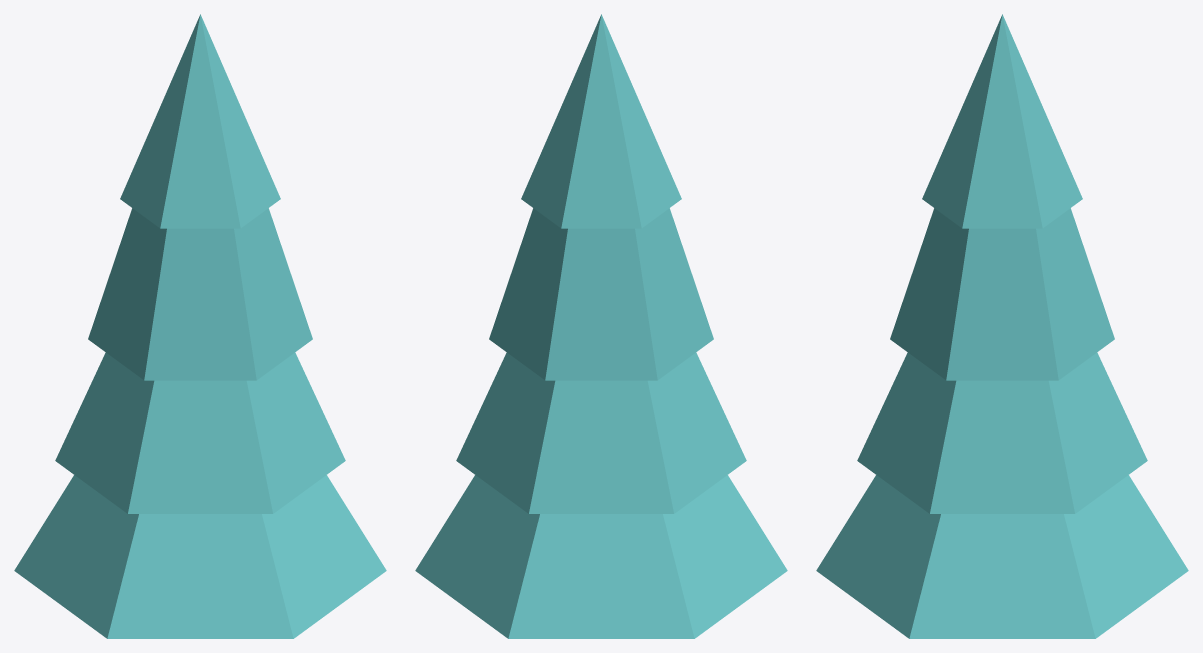
The model's file is Tree03.fbx.
3 views of the same model, side by side, from view 1: azimuth 30°, elevation 25°; view 2: azimuth 150°, elevation 25°; view 3: azimuth 270°, elevation 25° (orthographic).
Parts seen in each view (by area): view 1: tree_03; view 2: tree_03; view 3: tree_03.
Boxes of the visible parts, box(x1,y1,x2,y2) form: tree_03: box(14, 14, 386, 638); tree_03: box(415, 14, 787, 638); tree_03: box(816, 14, 1188, 638).
Size of the model in its own units: 189 by 360 by 218.
